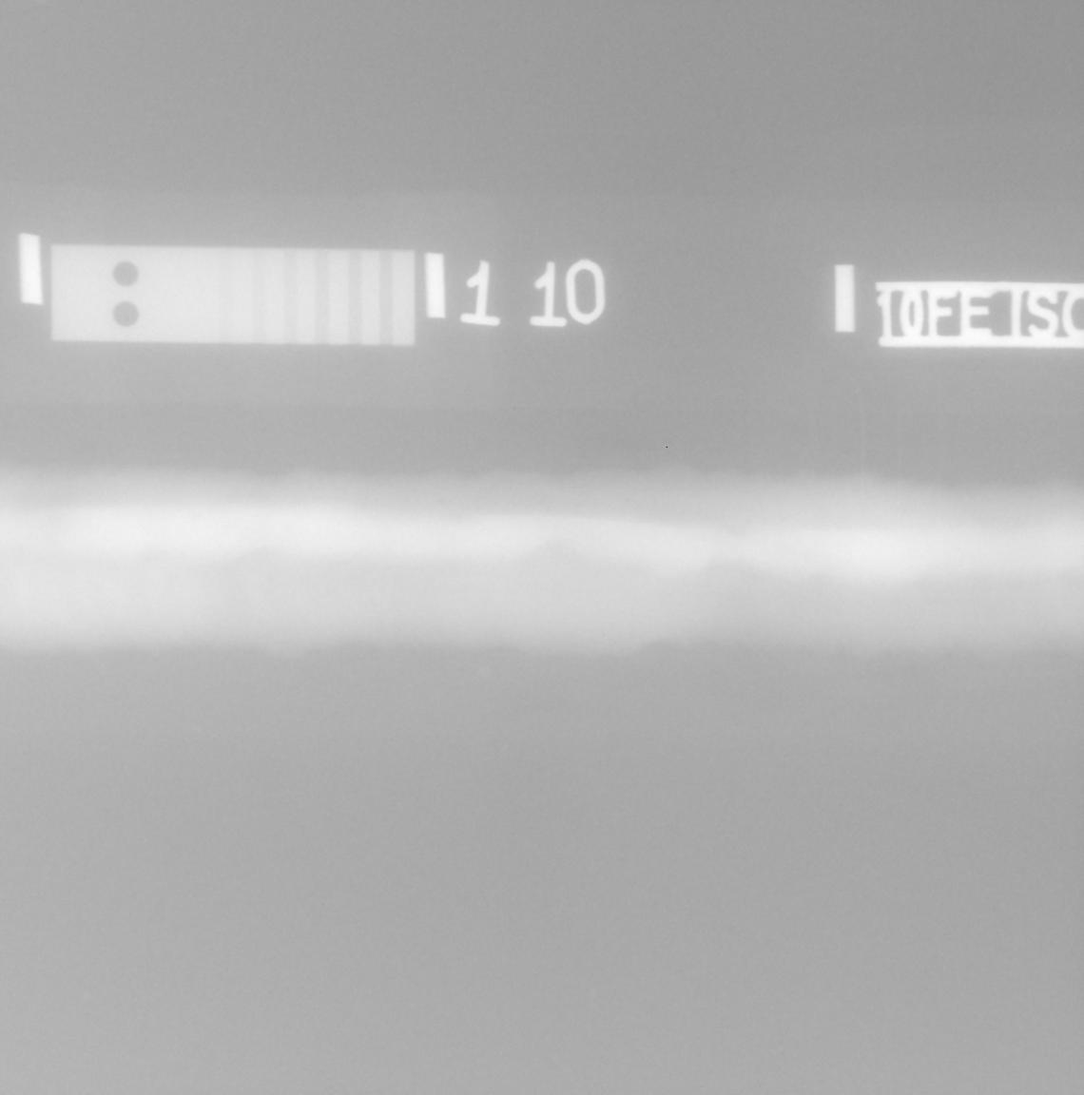Pore/Porosity: (439, 498, 445, 503), (624, 498, 630, 503)
Reference Standard 2: (50, 244, 415, 345)
